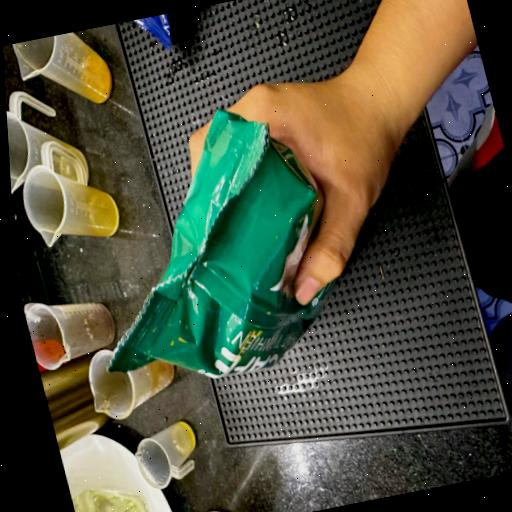cafe_xay: (111, 109, 322, 377)
